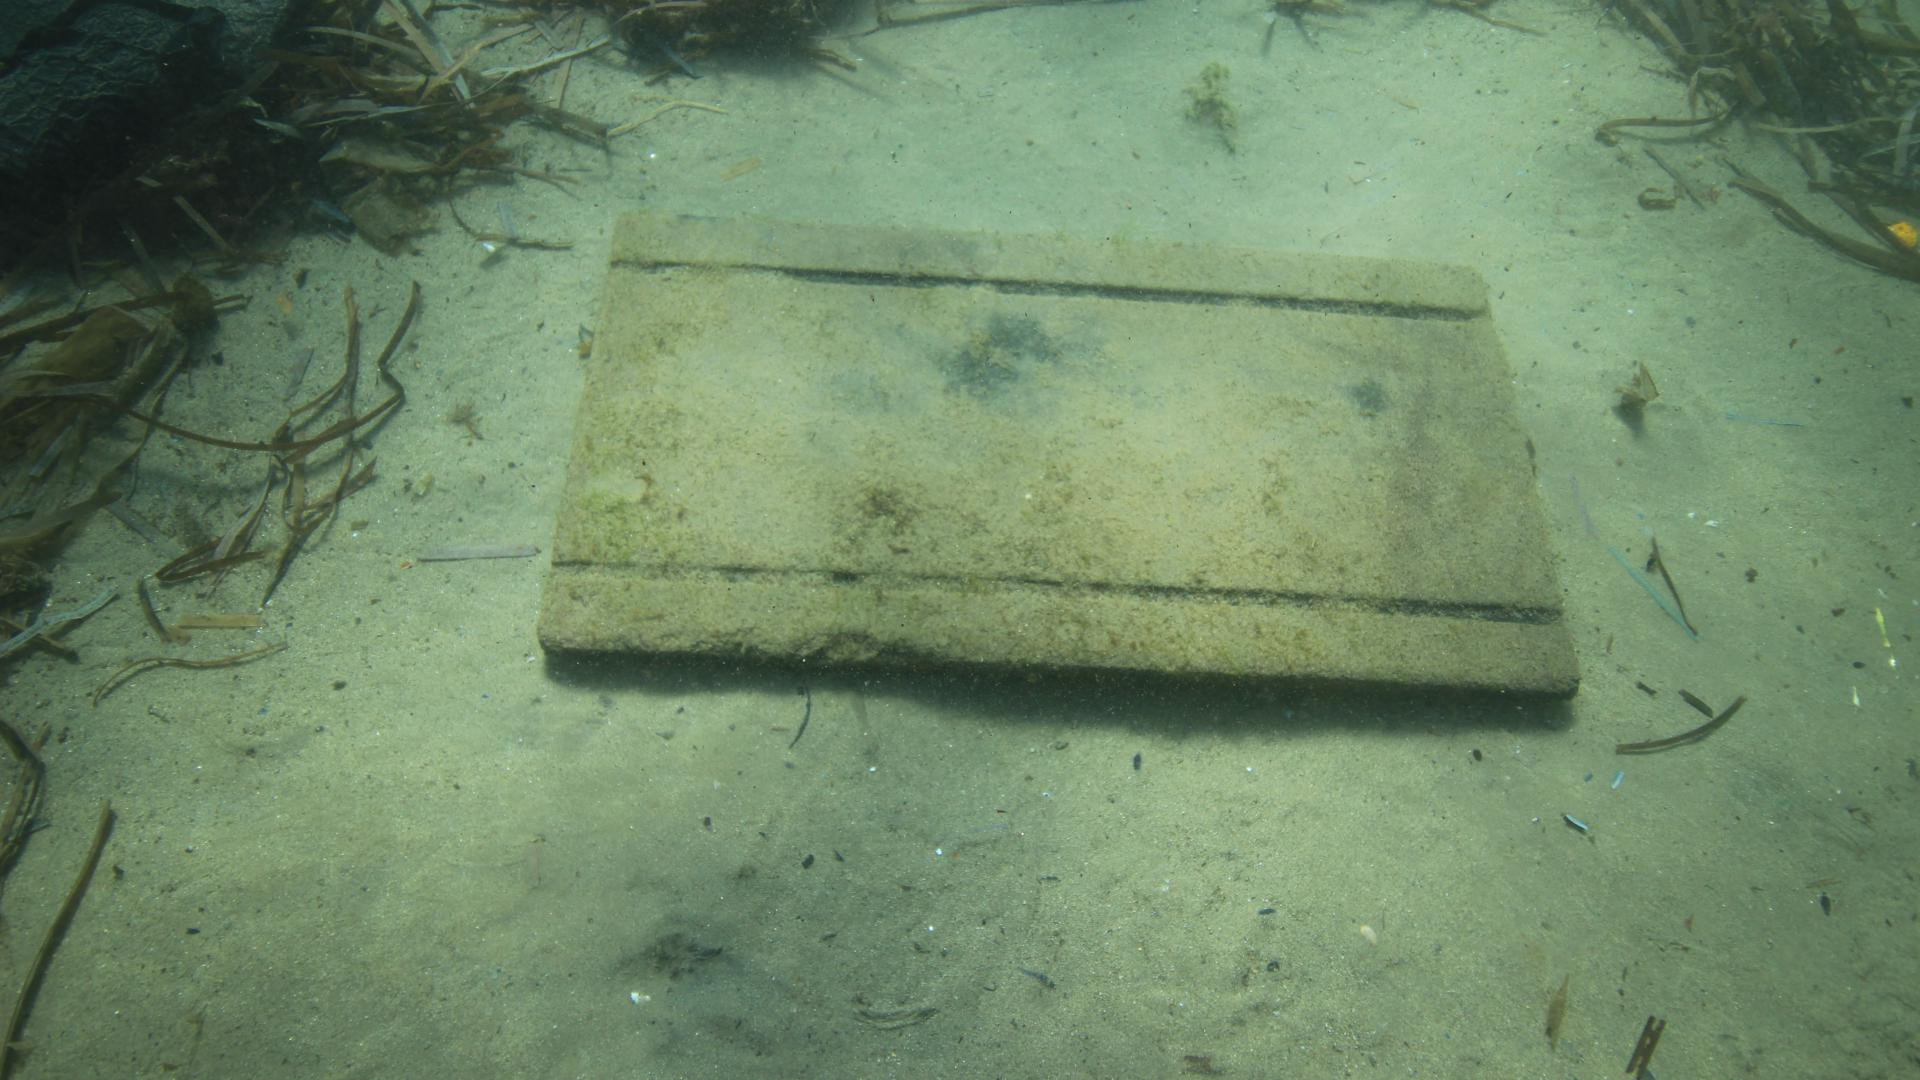wood: (534, 208, 1584, 704)
